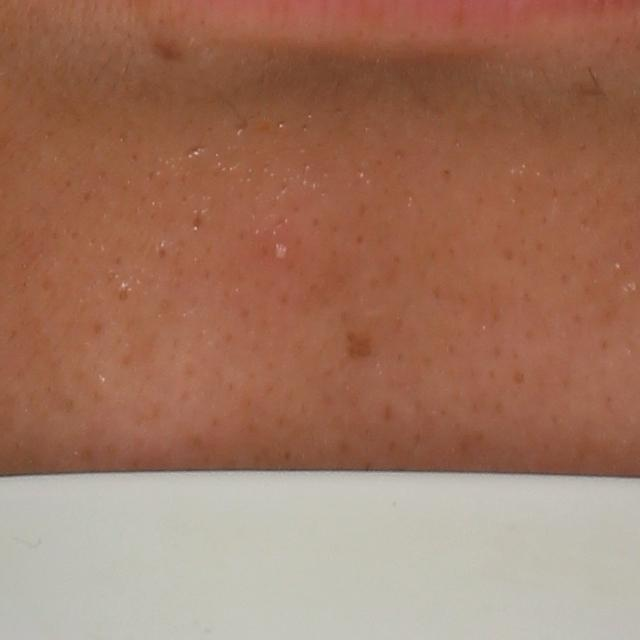nevus: (155, 37, 187, 65)
pustule: (268, 237, 295, 264)
